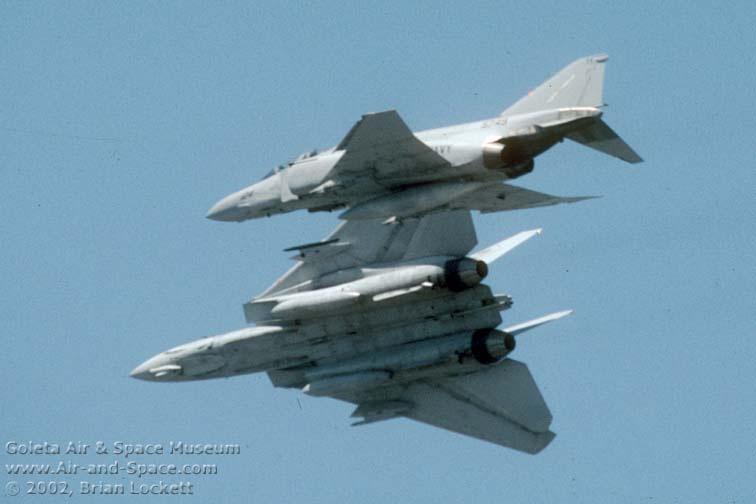F14: (128, 210, 576, 456)
F4: (204, 52, 645, 224)
